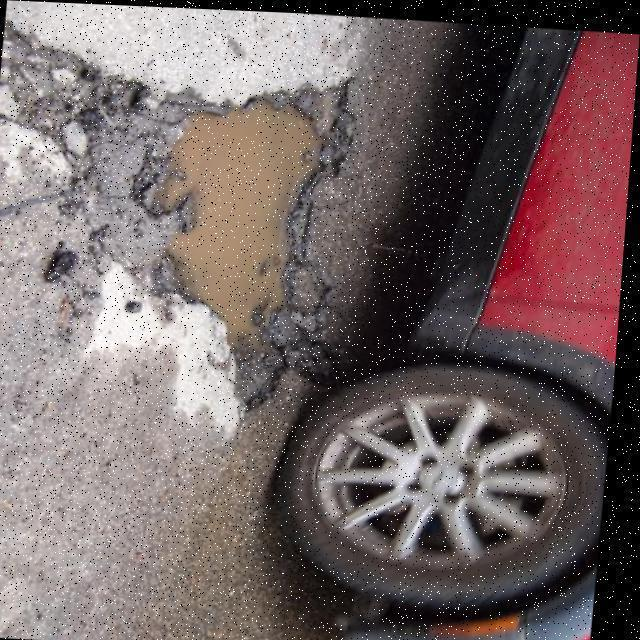Pothole: (30, 60, 377, 418)
